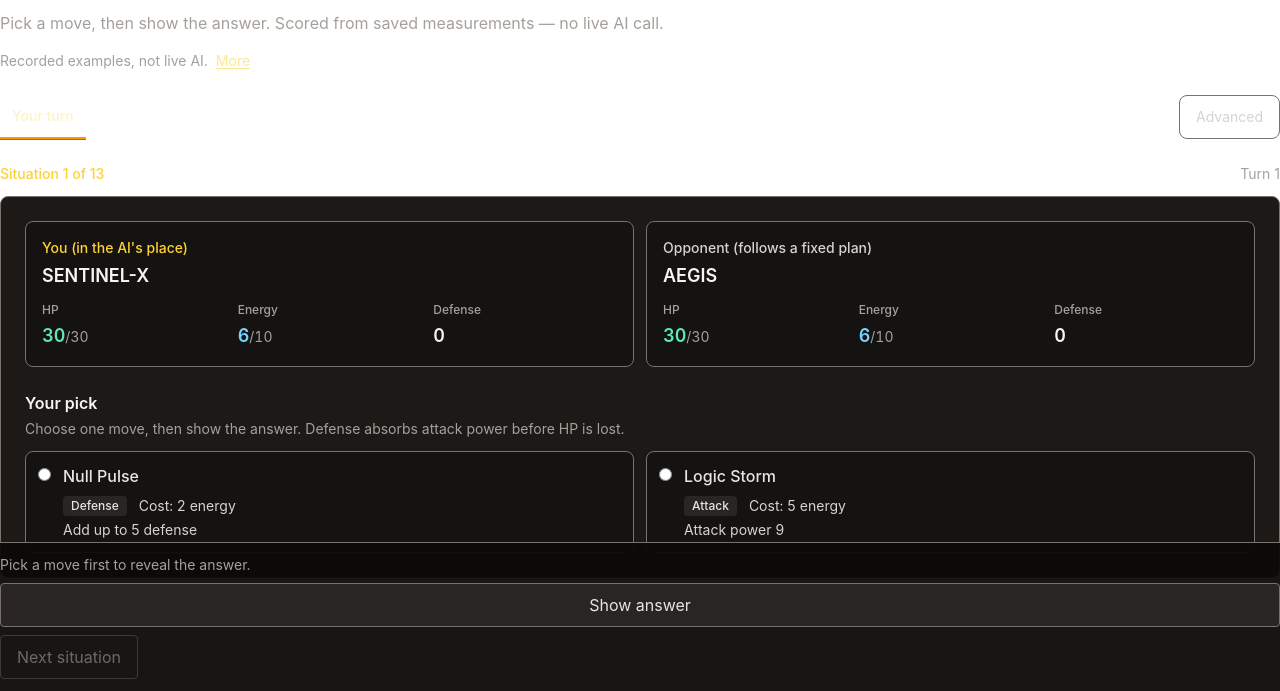
Test case: DecisionLabView › opens diagnostics behind Advanced and returns to Your turn
Click the button with test id "lab-advanced-toggle" at (1230, 117), box [1179,95,1279,139]
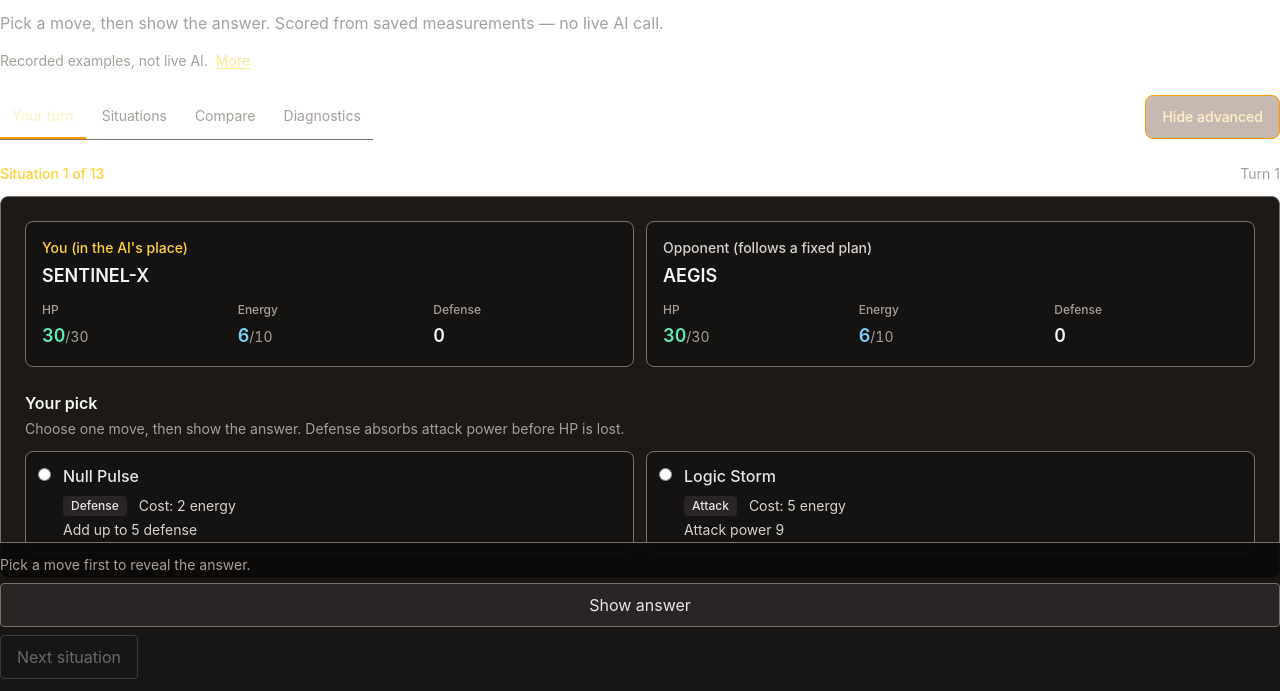
Click the tab "Diagnostics" at (322, 117), box [272,95,373,139]
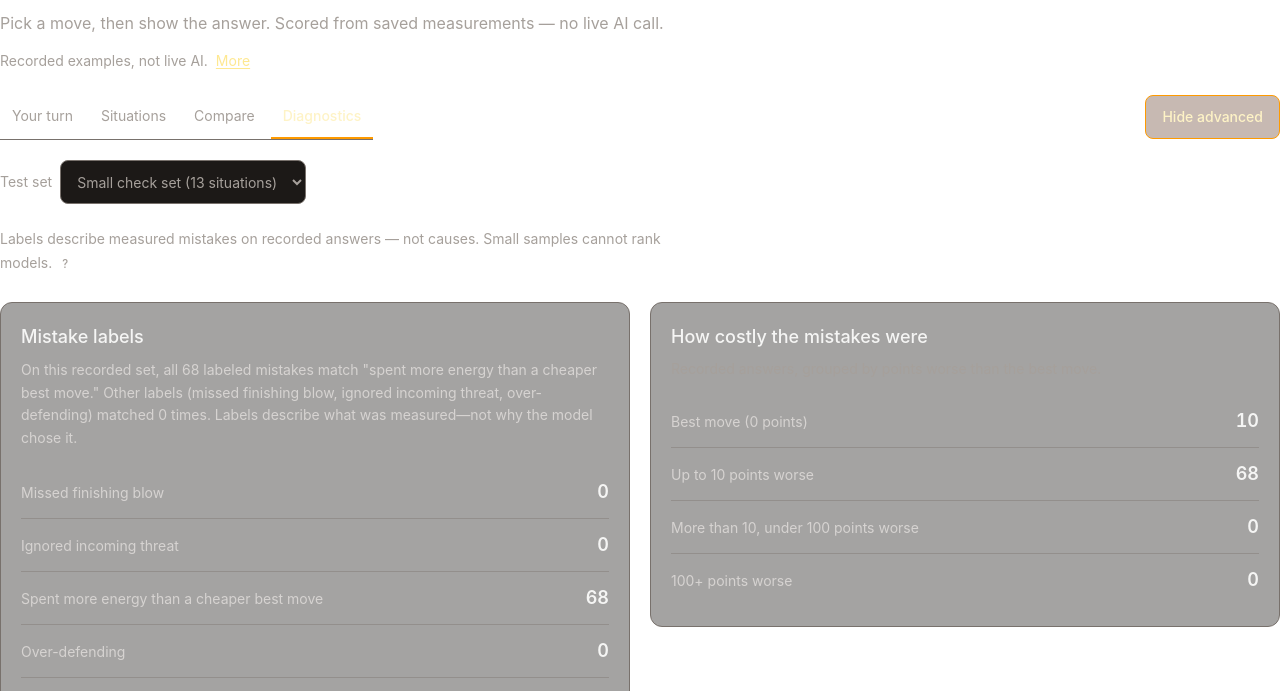
Click the tab "Your turn" at (42, 117), box [0,95,85,139]
(page scrolled)
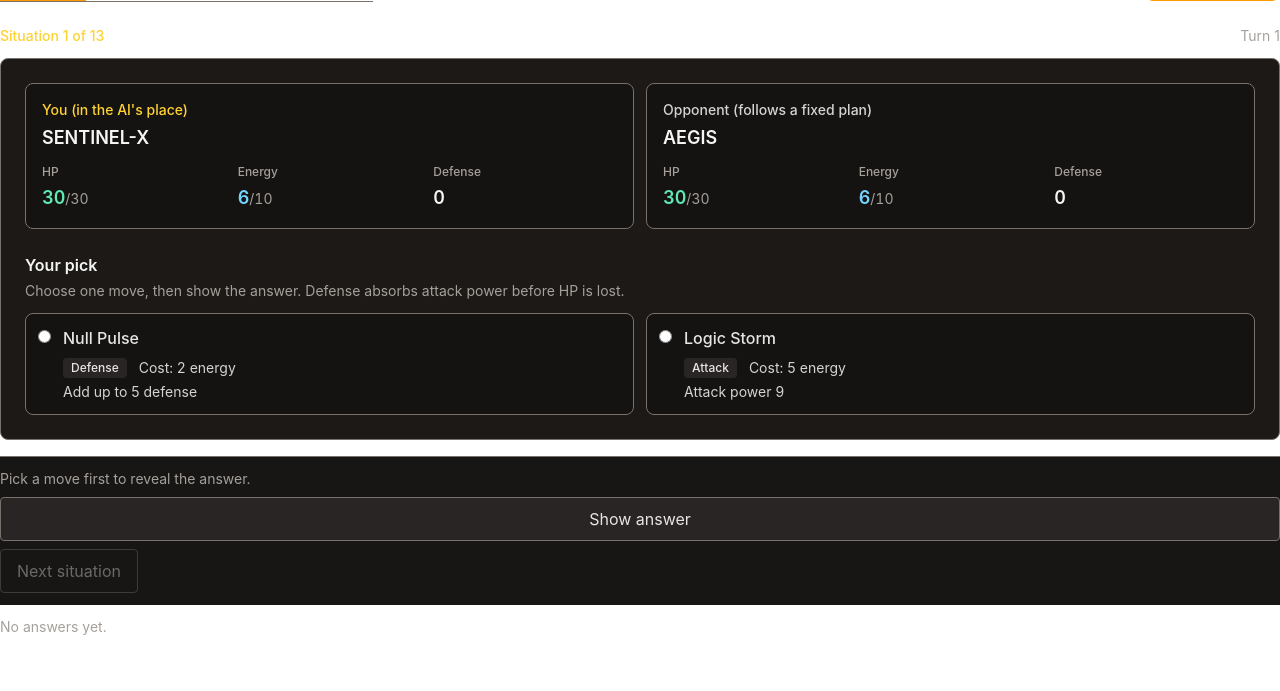
Expected: the element with test id "lab-challenge" is shown
